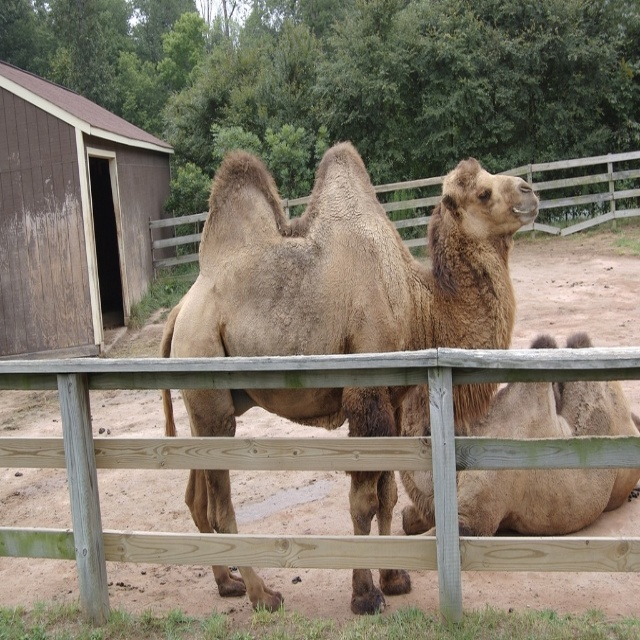Camel: (159, 139, 546, 615), (399, 331, 640, 537)
